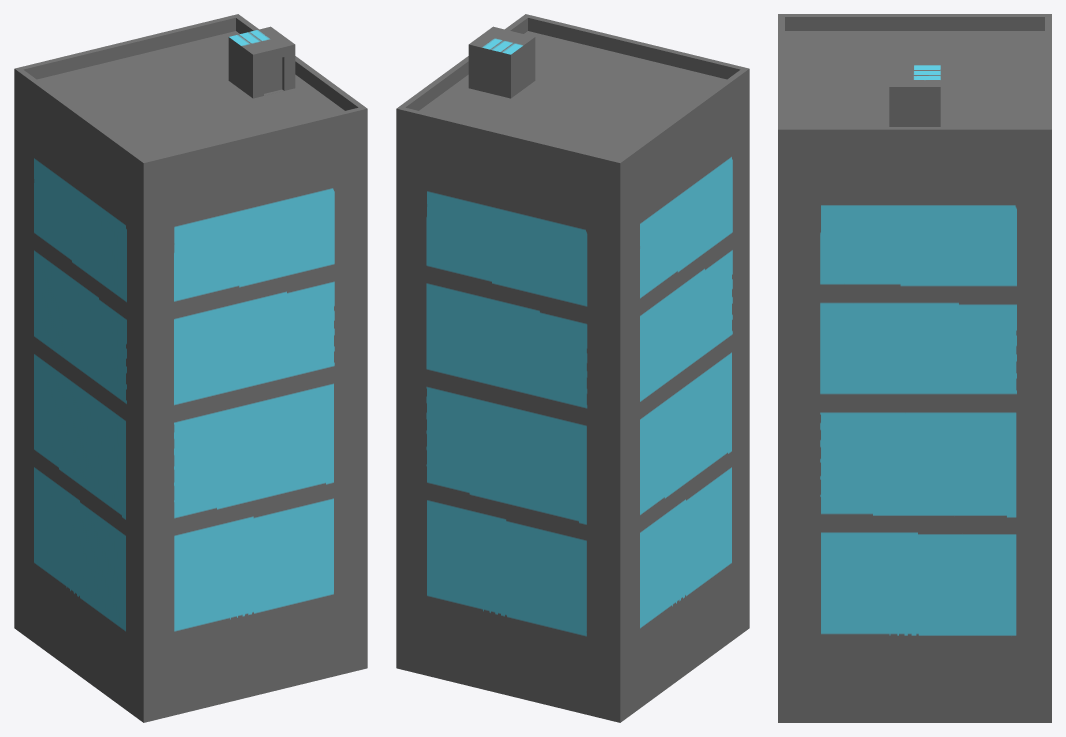
Rendered from building1.glb.
The picture shows the model from 3 angles, left to right: view 1: azimuth 30°, elevation 25°; view 2: azimuth 150°, elevation 25°; view 3: azimuth 270°, elevation 25°; orthographic projection. The views are drawn at different scales.
Parts seen in each view (by area): view 1: Cube.001; view 2: Cube.001; view 3: Cube.001.
Boxes of the visible parts, box(x1,y1,x2,y2) form: Cube.001: box(14, 14, 367, 722); Cube.001: box(396, 14, 749, 722); Cube.001: box(778, 14, 1051, 722).
Bounding box in the file's own units: 10.61 × 27.74 × 10.61.
1 material, 1 textured.
